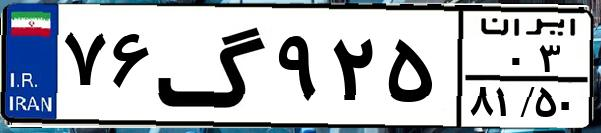0: (560, 70, 590, 125), (508, 27, 537, 80)
1: (495, 70, 520, 125)
2: (330, 28, 385, 110)
3: (537, 27, 568, 80)
5: (385, 28, 445, 110), (535, 70, 560, 125)
6: (110, 28, 156, 98)
7: (57, 26, 110, 100)
8: (470, 70, 495, 125)
9: (270, 28, 330, 110)
گ: (156, 12, 270, 120)
